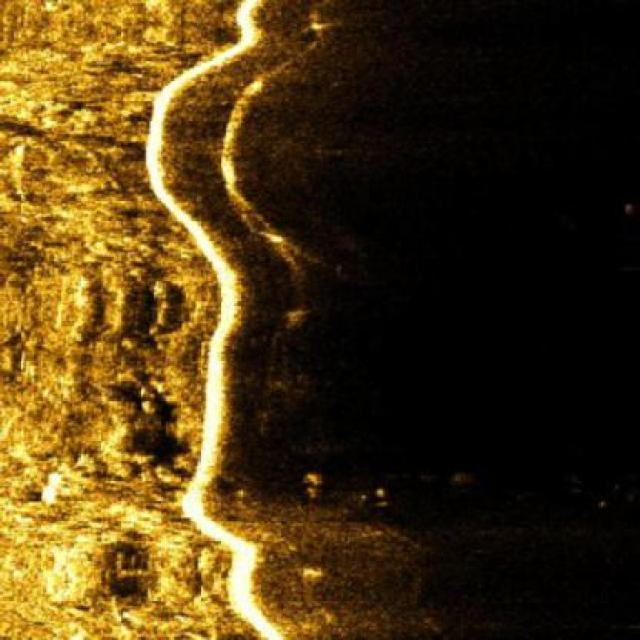bedrock group: (0, 0, 231, 638)
